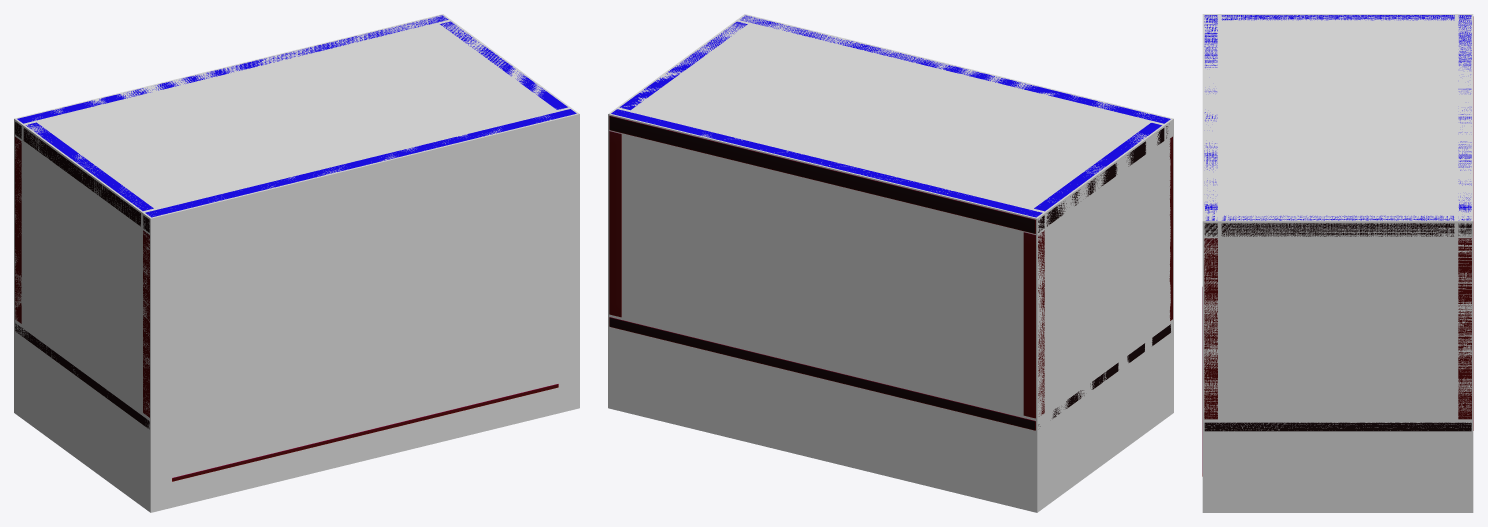
File: prop_glass_counter.fbx
3 views of the same model, side by side, from view 1: azimuth 30°, elevation 25°; view 2: azimuth 150°, elevation 25°; view 3: azimuth 270°, elevation 25° (orthographic).
Visible parts, largest first — view 1: COL_0, prop_glass_counter; view 2: COL_0, prop_glass_counter; view 3: COL_0, prop_glass_counter.
Boxes of the visible parts, x1,y1,x2,y2 form: COL_0: (14,14,579,512); prop_glass_counter: (15,15,576,481); COL_0: (608,14,1173,512); prop_glass_counter: (609,15,1172,430); COL_0: (1202,14,1473,512); prop_glass_counter: (1202,15,1473,476).
Bounding box in the file's own units: 1.45 × 0.95 × 0.801.
